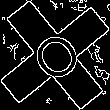O_SE: (22, 22, 88, 88)
